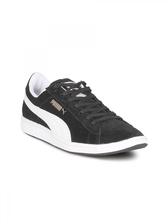shoes: (15, 66, 149, 158)
